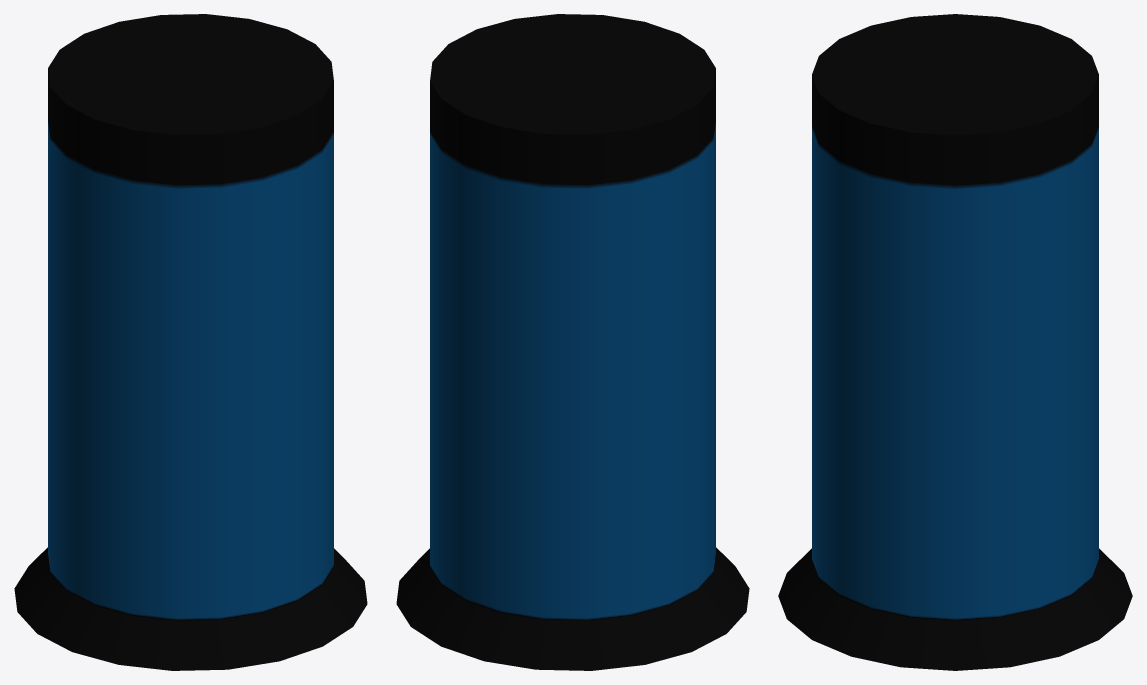
Rendered from LanternExt.fbx.
3 renders of one model, left to right at view 1: azimuth 30°, elevation 25°; view 2: azimuth 150°, elevation 25°; view 3: azimuth 270°, elevation 25°, orthographic.
Parts seen in each view (by area): view 1: pCylinder1; view 2: pCylinder1; view 3: pCylinder1.
Part boxes in pixels (box(x1,y1,x2,y2)): pCylinder1: box(14, 14, 367, 670); pCylinder1: box(396, 14, 749, 670); pCylinder1: box(778, 14, 1132, 670).
Size of the model in its own units: 2.47 by 4.01 by 2.47.
